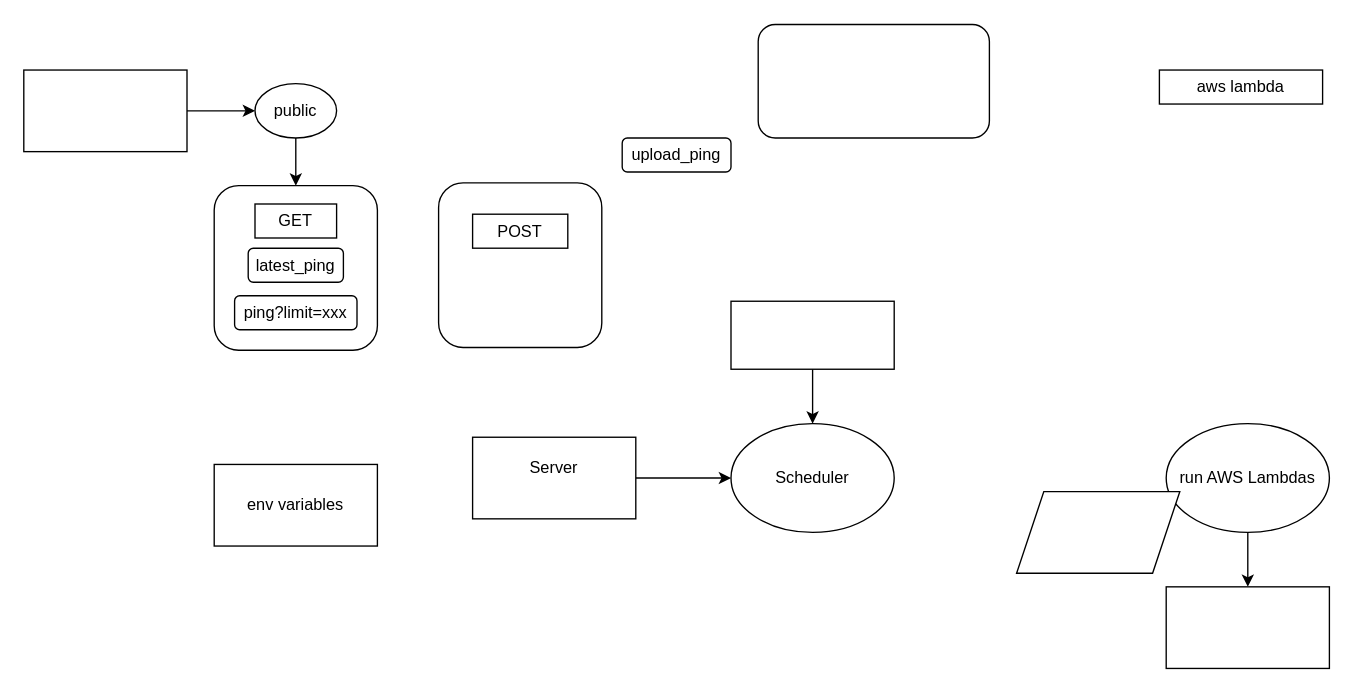
Some shapes in this 1353 by 692 pixel diagram are drawn without their labels. The shapes that lost their labels are listed below. From the top down, each one's centre as x and y in pixels, then its label:
[873,80]: payload { "callbackurl": xxx, "x-api-key": xxx }
[104,110]: front end
[812,334]: Every 60 seconds
[1097,531]: #cfg(feature = "FAAS")
[1247,626]: Reads the .env for AWS_ARLS = "arl,arl,arl,arl"
